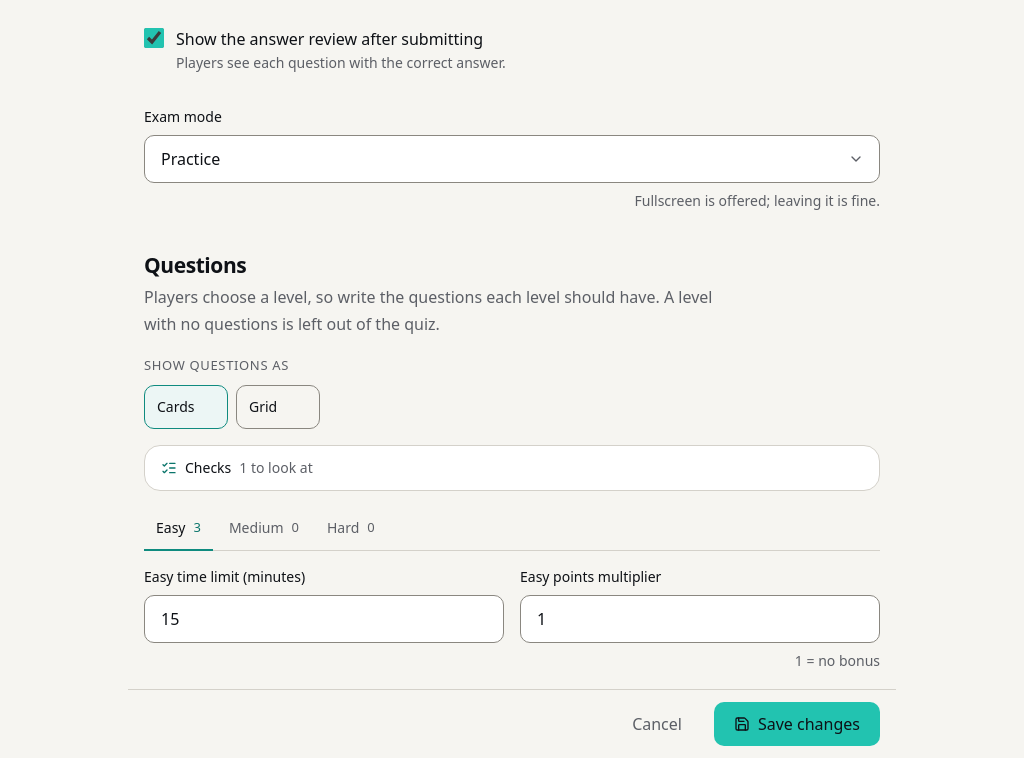
Test: the grid › moves with the arrow keys and Enter, adds a row on Enter at the end, and never saves
(page scrolled)
Click the radio button labelled "Grid". click: click(278, 406)
box: [236,384,320,428]
(page scrolled)
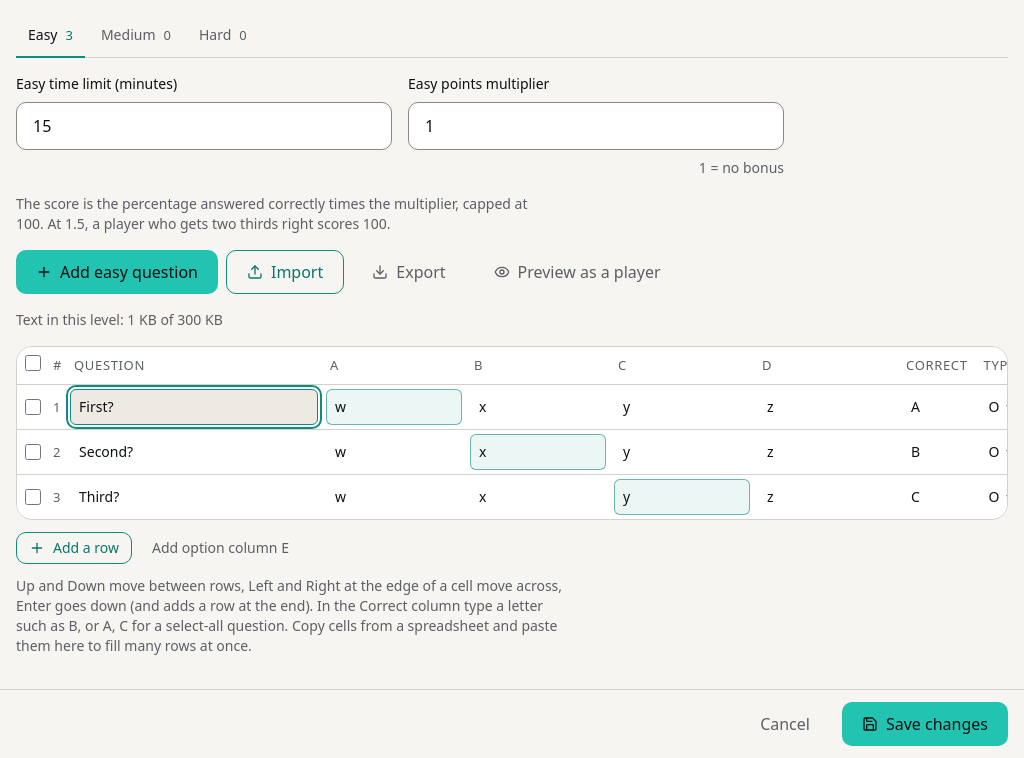
Press ArrowDown in the field named "Question 1", box [70,389,318,425]
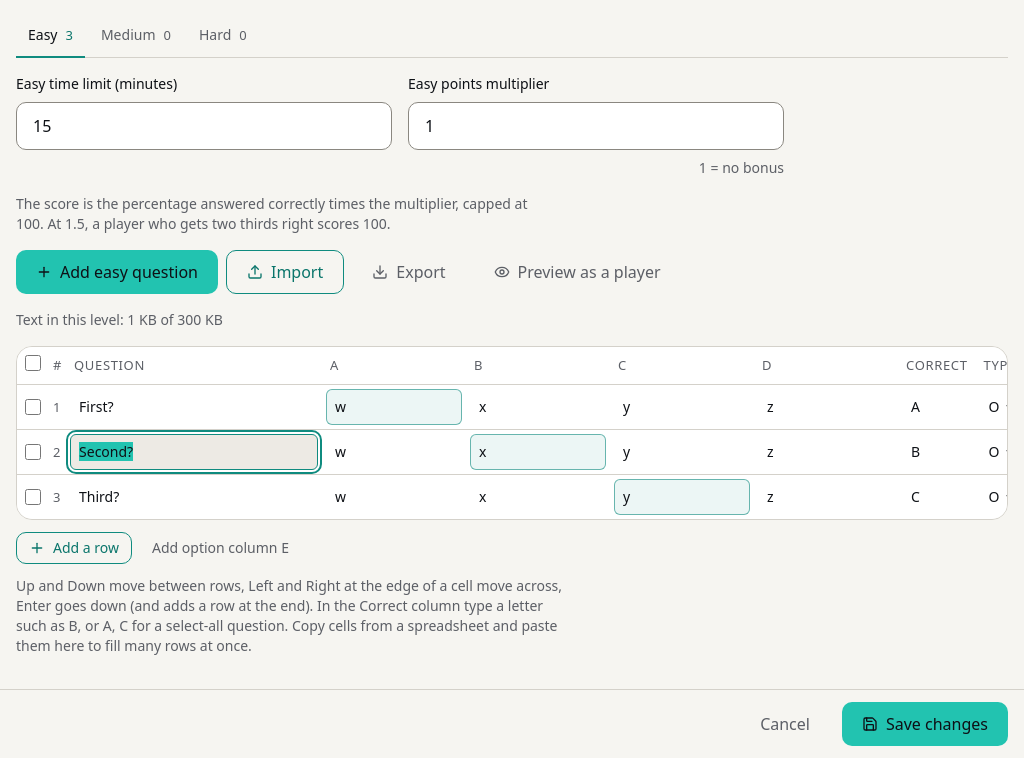
Press Enter in the field named "Question 2", box [70,434,318,470]
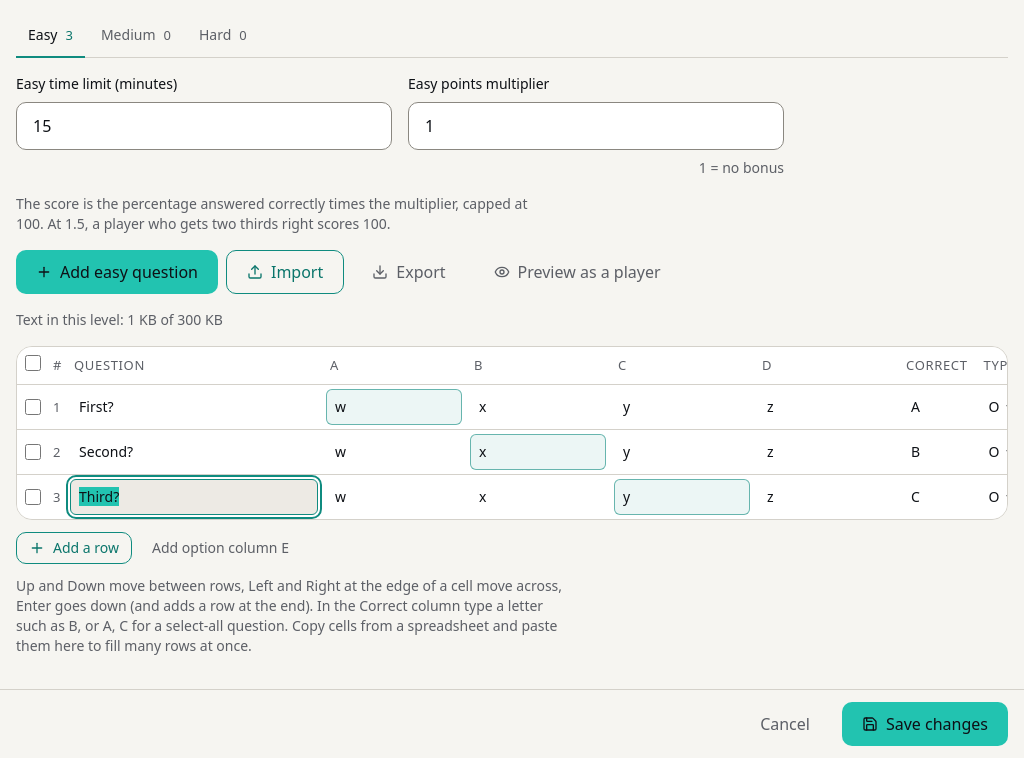
Press Enter in the field named "Question 3", box [70,479,318,515]
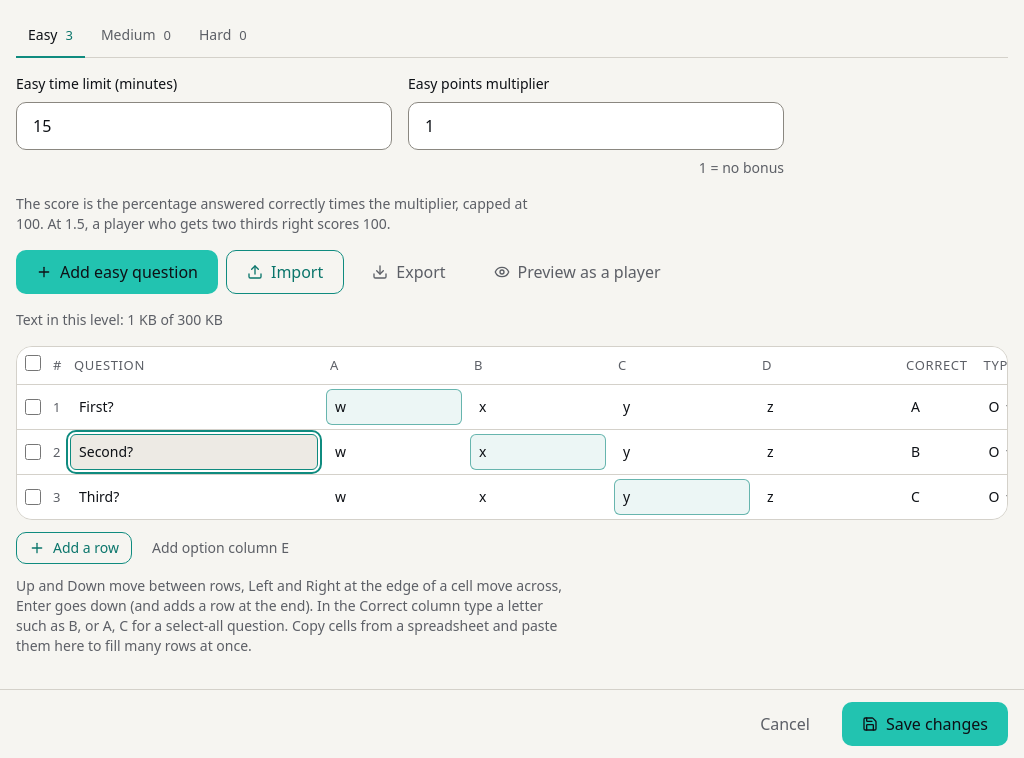
Press ArrowRight in the field named "Question 2", box [70,434,318,470]
Press ArrowRight in the field named "Question 2", box [70,434,318,470]
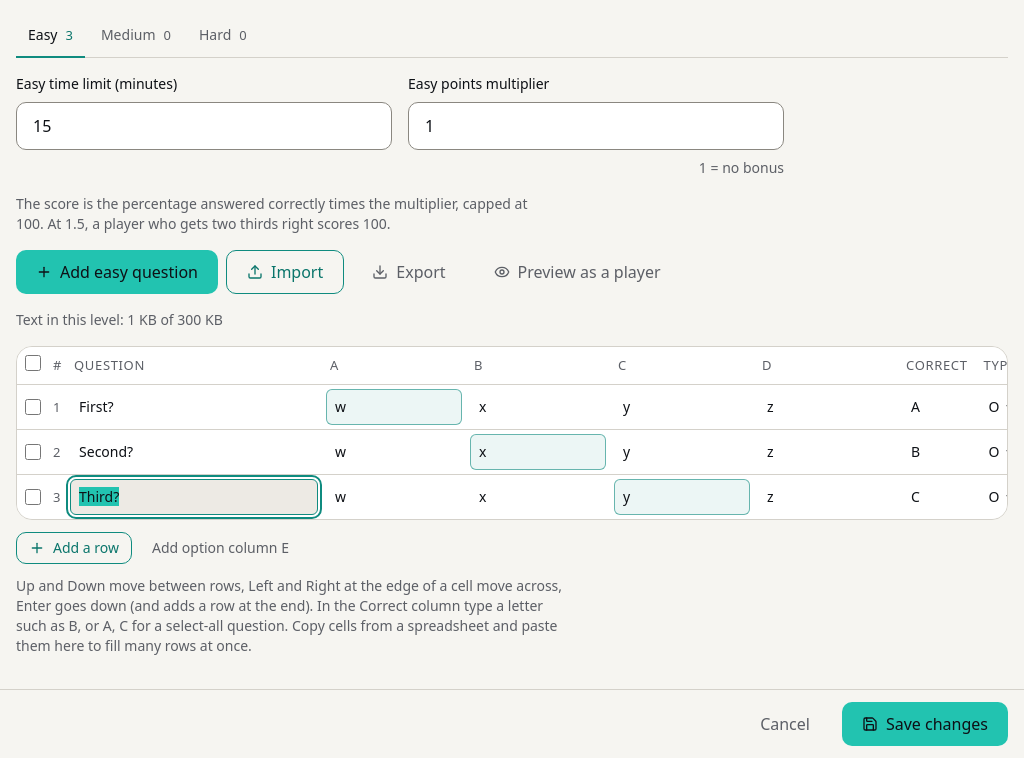
Press Enter in the field named "Question 3", box [70,479,318,515]
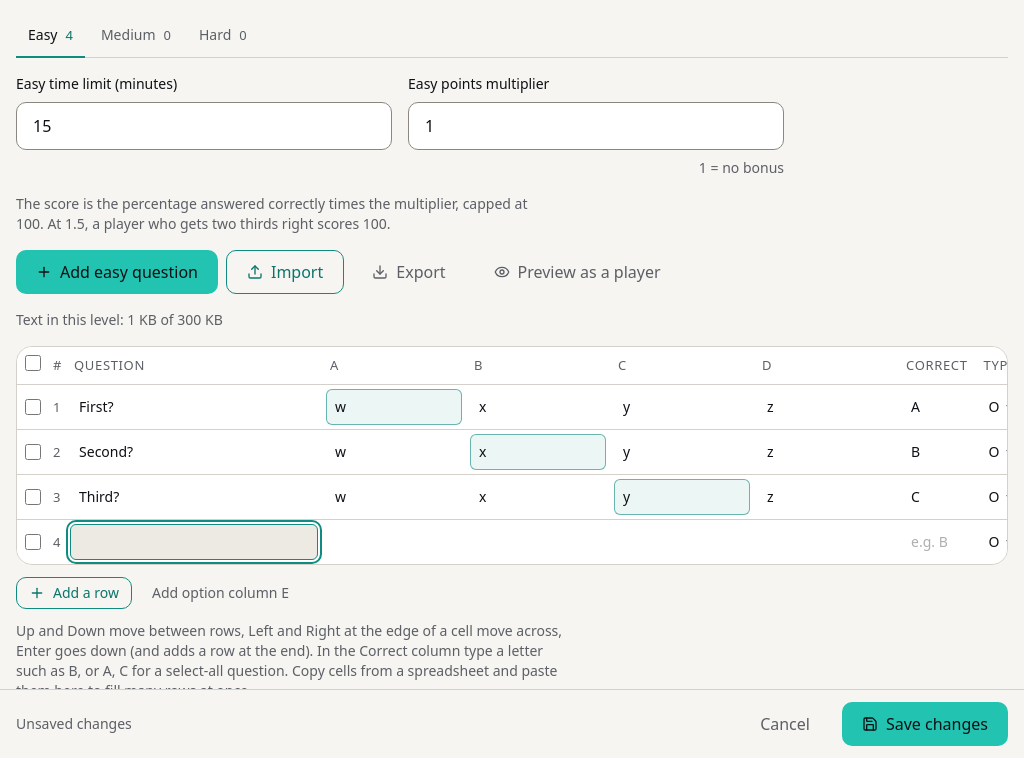
expect the field named "Question 4" is shown: met, box [70,524,318,560]
